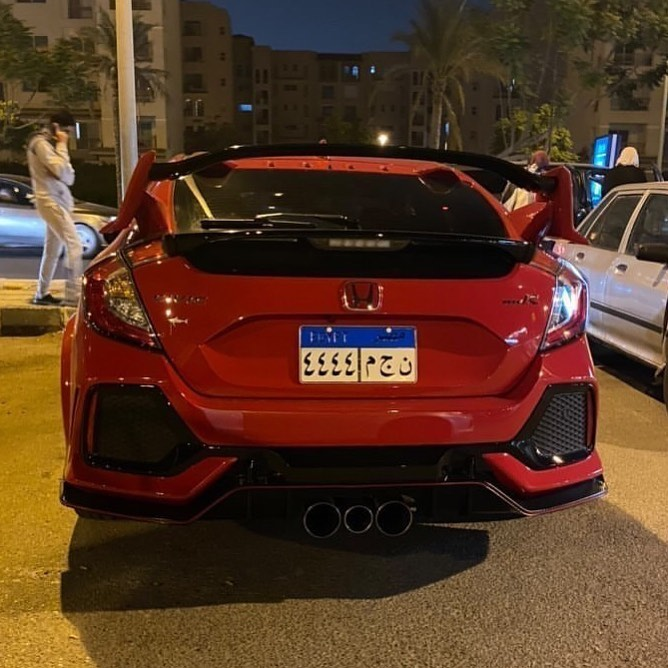carpl: (299, 326, 415, 382)
